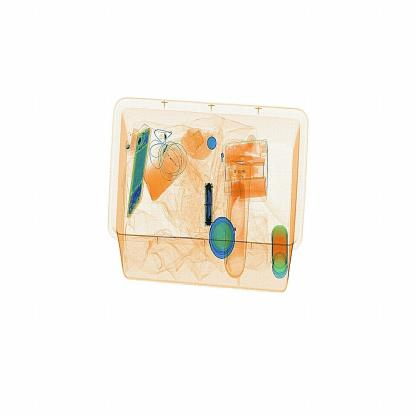scissors: (200, 180, 216, 231)
